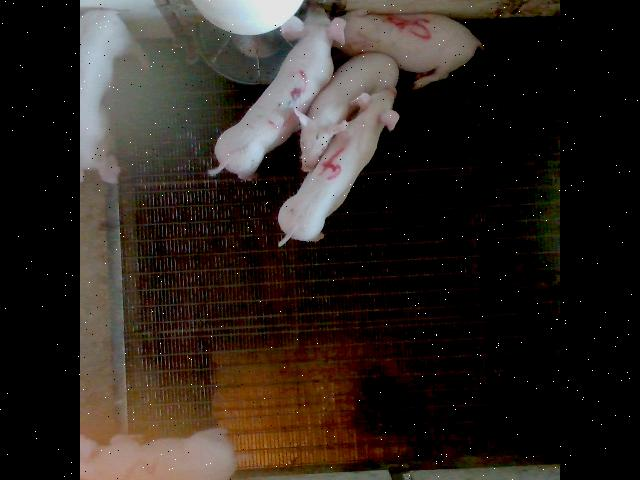pig-1: (81, 9, 149, 181)
pig-2: (82, 428, 236, 480)
pig-3: (210, 8, 345, 179)
pig-4: (278, 88, 399, 245)
pig-5: (341, 9, 484, 89)
